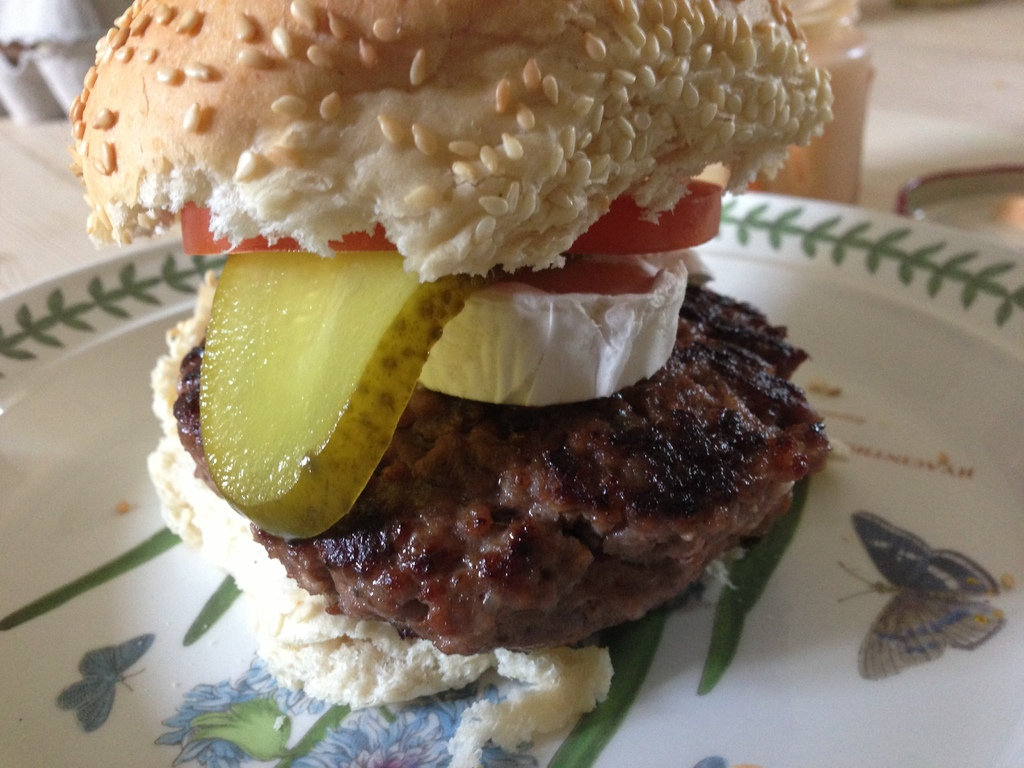Hamburger: (63, 0, 833, 767)
